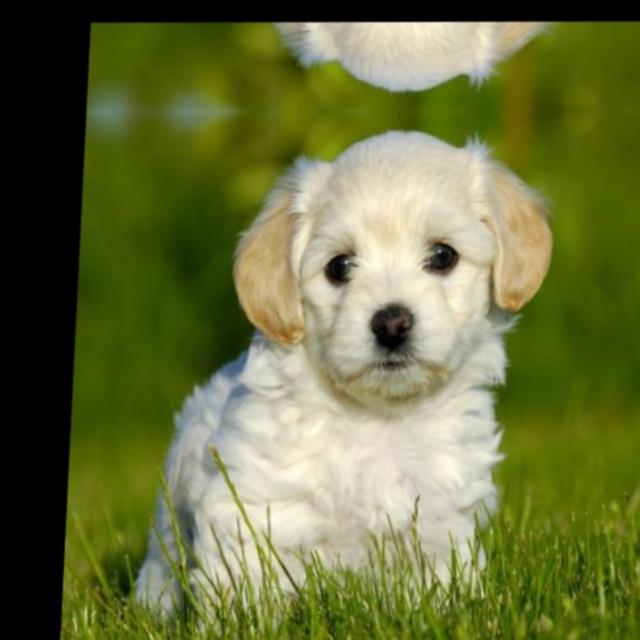dog: (113, 115, 578, 620), (139, 22, 582, 108)
